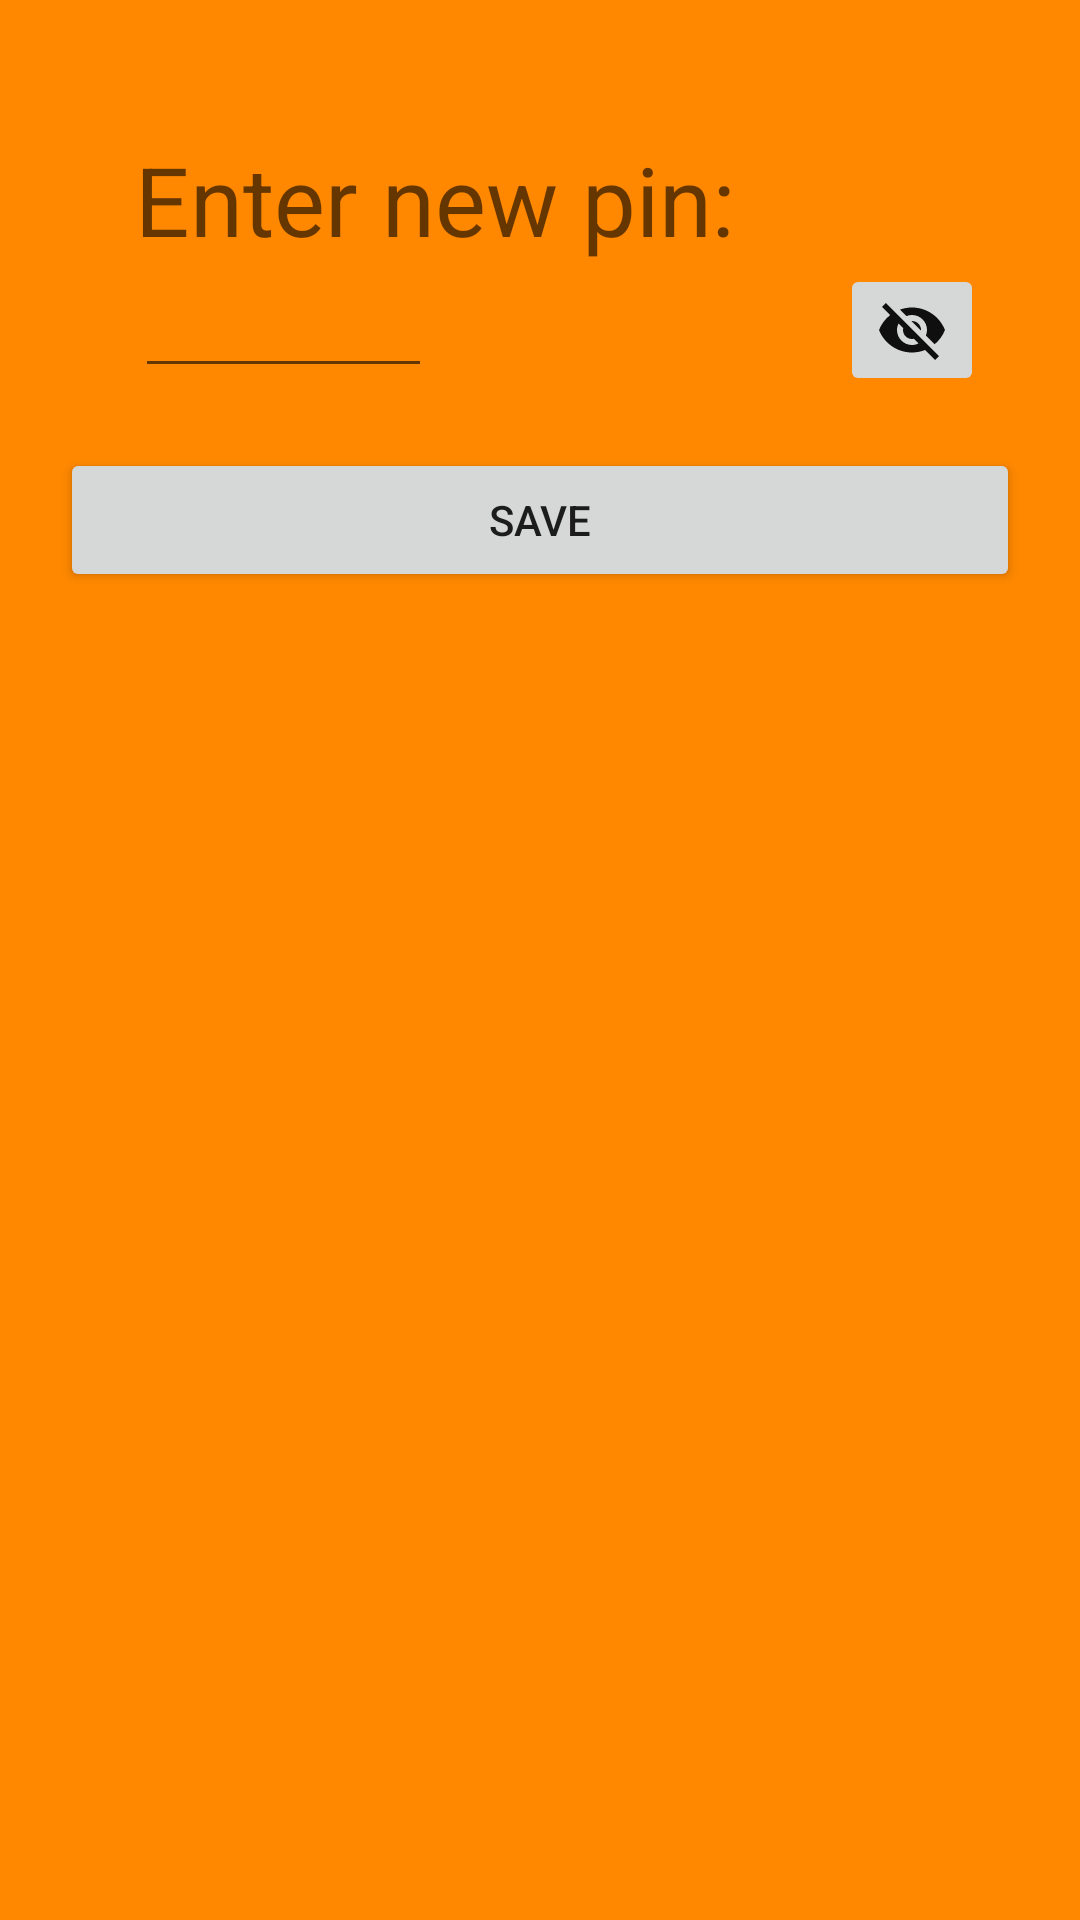

Screen size 1080 x 1920. Icon name, then its center in pixels as (x=x, y=y):
visibility off: (x=912, y=330)
